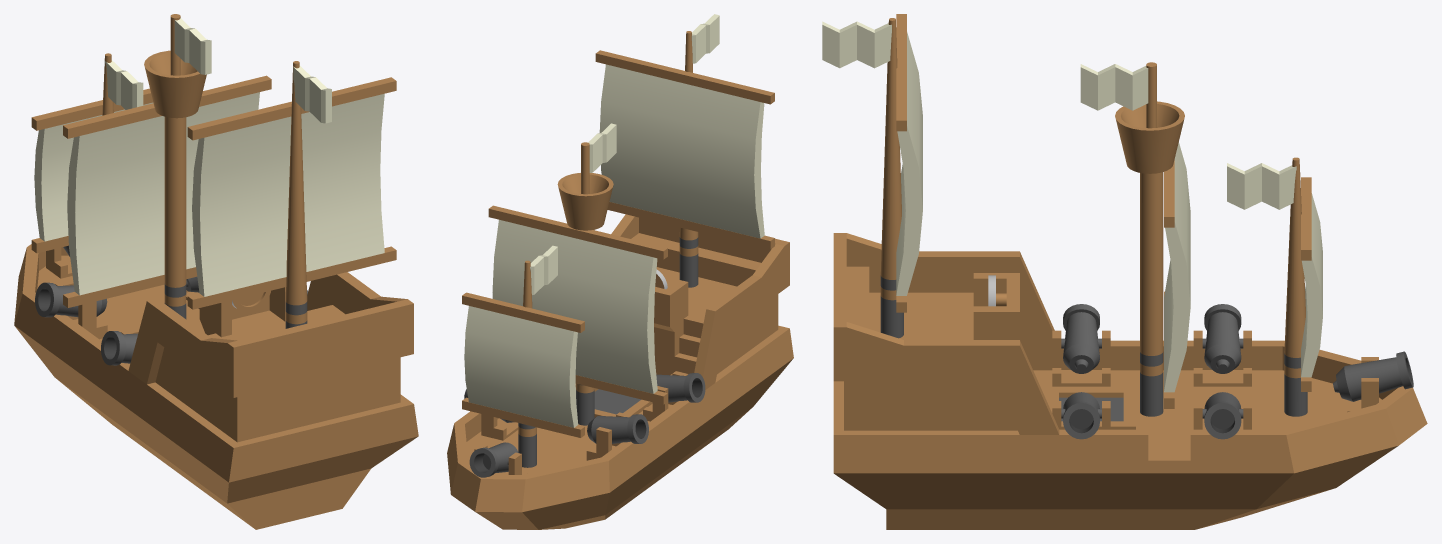
File: boat_006.fbx
The picture shows the model from 3 angles, left to right: view 1: azimuth 30°, elevation 25°; view 2: azimuth 150°, elevation 25°; view 3: azimuth 270°, elevation 25°; orthographic projection. The views are drawn at different scales.
Parts seen in each view (by area): view 1: Group (×12), boat_006, Cannon left, Cannon front; view 2: Group (×13), boat_006, Cannon left (×2), Cannon right; view 3: boat_006, Group (×15), Cannon left (×2), Cannon front.
Part boxes in pixels (<box>): Group (×12): <box>31,14,396,365</box>; boat_006: <box>14,244,418,529</box>; Cannon left: <box>55,280,107,339</box>; Cannon front: <box>46,247,72,278</box>; Group (×13): <box>462,14,774,477</box>; boat_006: <box>447,214,793,529</box>; Cannon left (×2): <box>586,371,688,460</box>; Cannon right: <box>481,414,518,440</box>; boat_006: <box>833,233,1427,529</box>; Group (×15): <box>822,14,1413,439</box>; Cannon left (×2): <box>1052,330,1251,386</box>; Cannon front: <box>1347,357,1378,412</box>.
Size of the model in its own units: 37.68 by 80.07 by 90.02.
